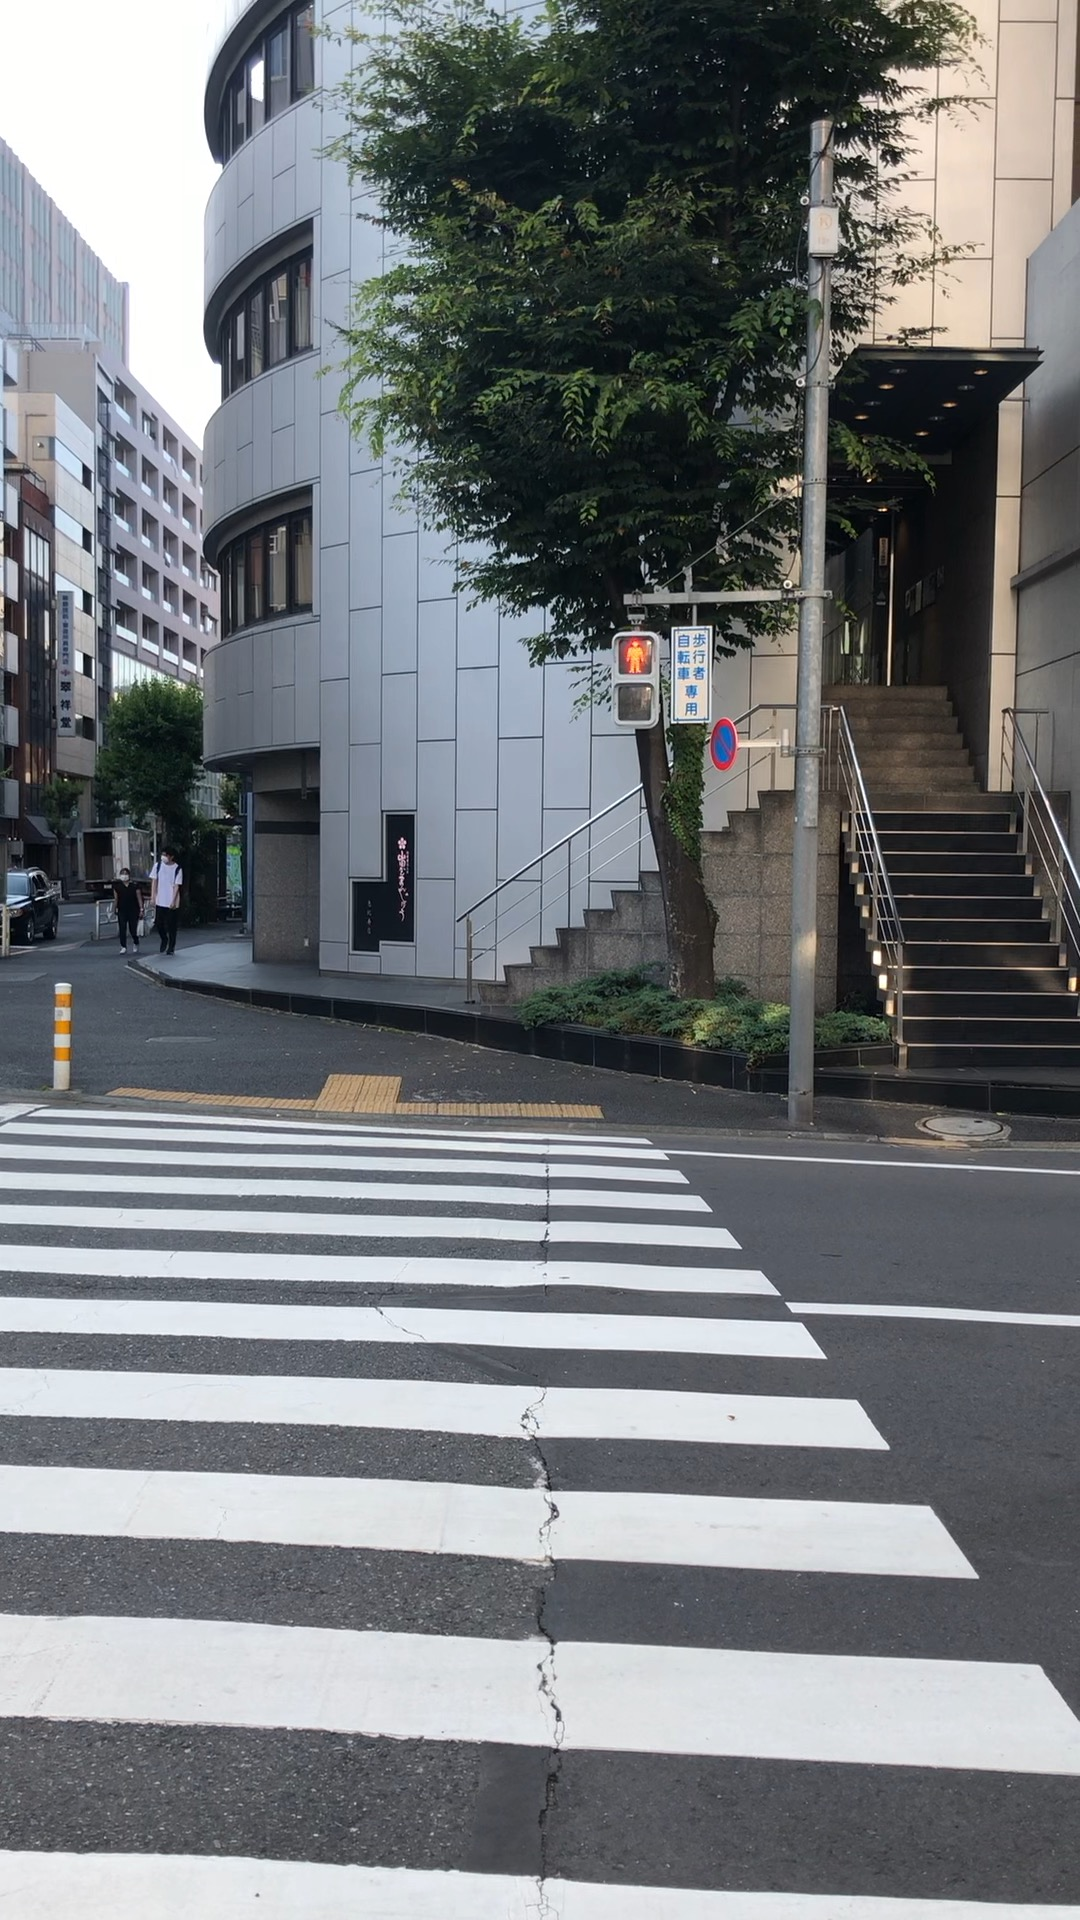red: (611, 630, 659, 727)
